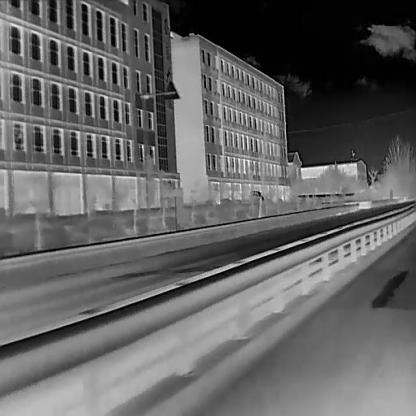car: (230, 190, 264, 206)
